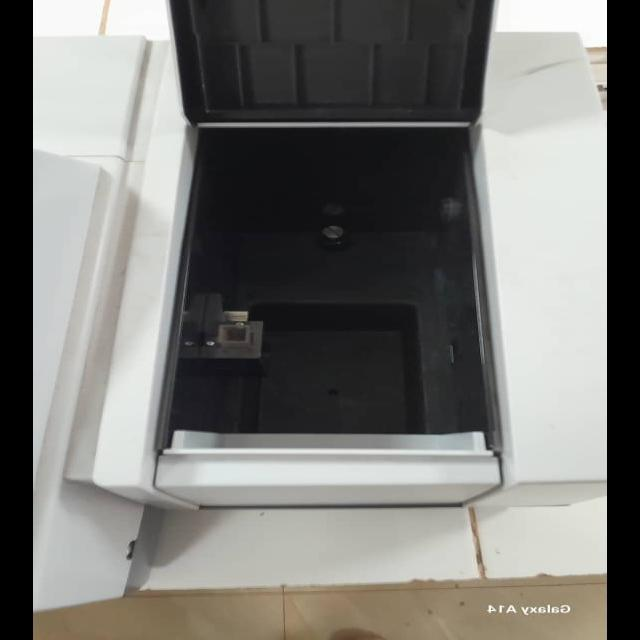Spectrophotometer: (49, 100, 500, 500)
